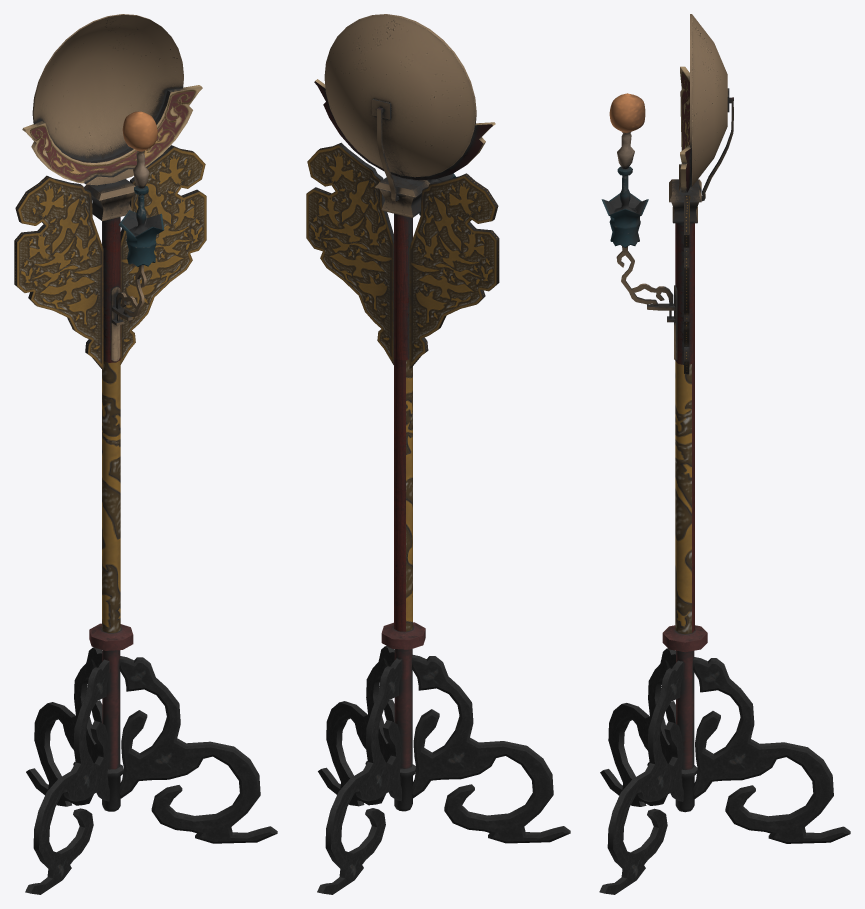
File: Vintage Reflecting Lamp 02.fbx
The picture shows the model from 3 angles, left to right: view 1: azimuth 30°, elevation 25°; view 2: azimuth 150°, elevation 25°; view 3: azimuth 270°, elevation 25°; orthographic projection.
Parts seen in each view (by area): view 1: Plane_001; view 2: Plane_001; view 3: Plane_001.
Part boxes in pixels (x1,y1,x2,y2): Plane_001: [14, 14, 277, 894]; Plane_001: [306, 14, 570, 894]; Plane_001: [599, 14, 850, 894].
Size of the model in its own units: 71.45 by 223 by 61.97.
